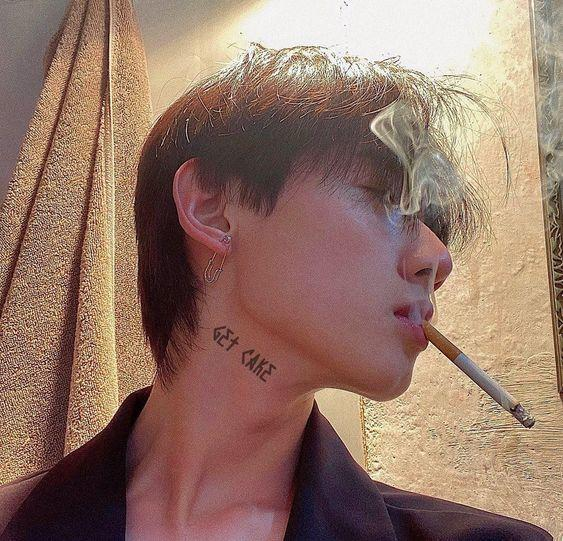cigarette: (420, 318, 536, 429)
